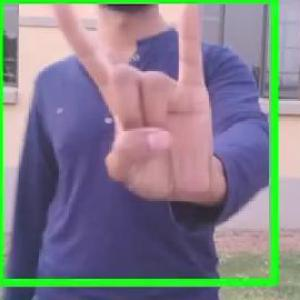takeoff-hand: (47, 0, 204, 205)
